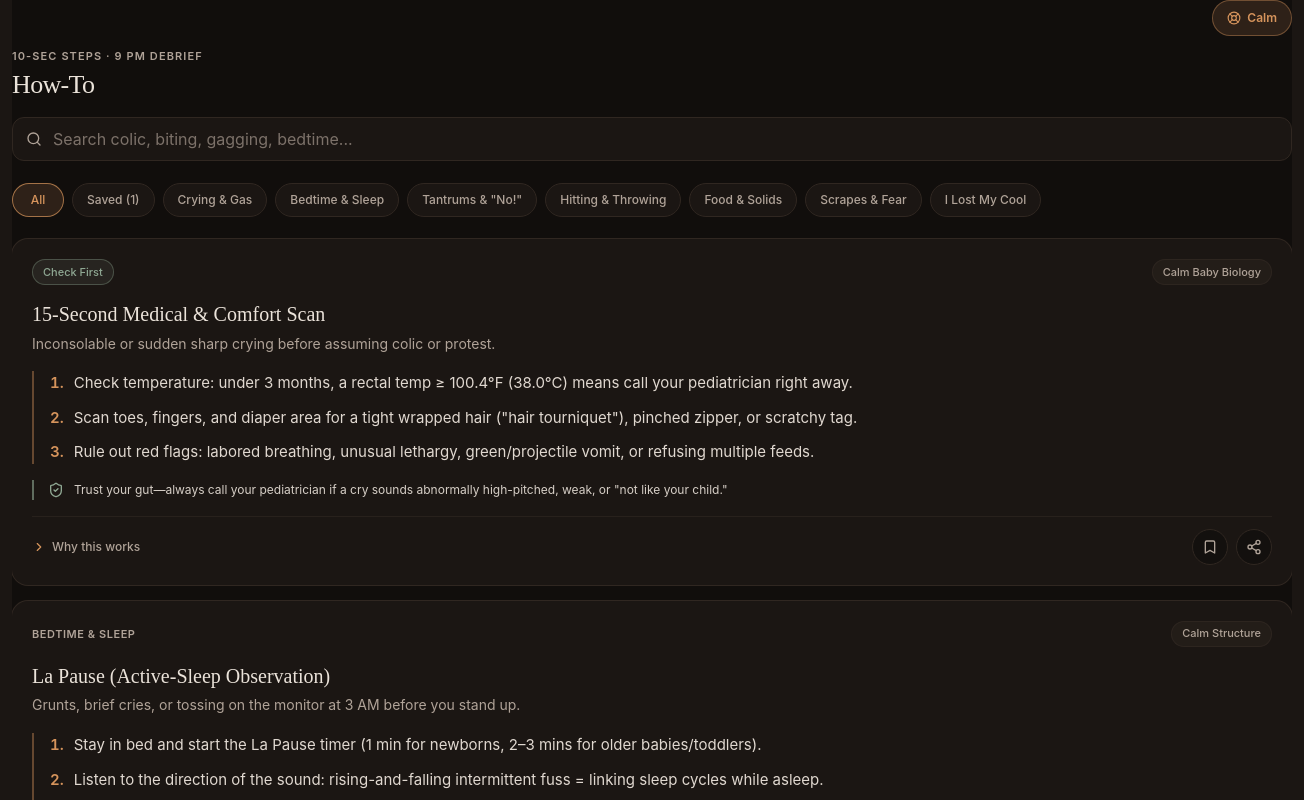
Scenario: HowToView › shows daytime Calm pill, toddler situation filters, 5% badge, unified Saved bookmarks, and spouse share
Later steps or results of the test are not shown.
Expected: the button with aria-label "Calm timer and reset" reads "Calm", [1212,0,1292,36]
// Filter to Tantrums & "No!"
Click the button "Tantrums & \"No!\"": (472, 200) [407,183,537,217]
(page scrolled)
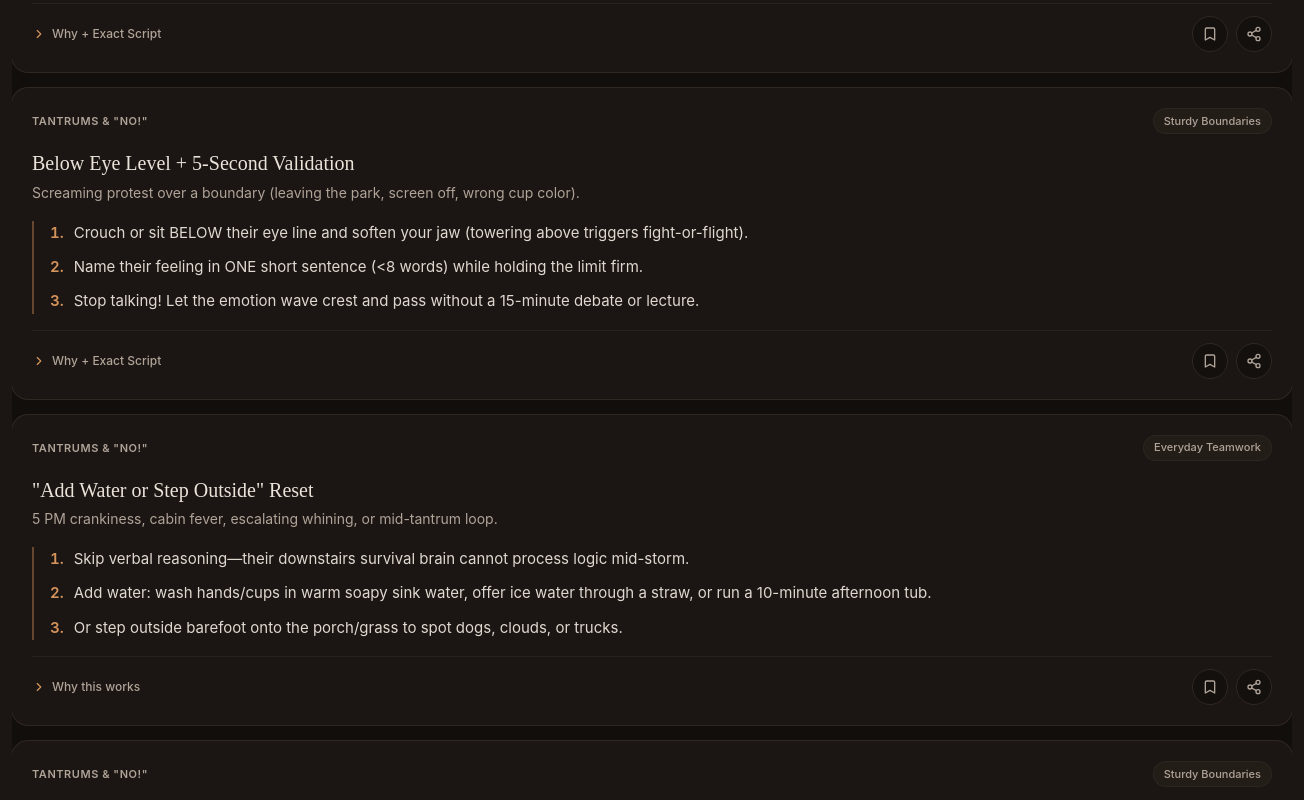
Expected: the heading "Below Eye Level + 5-Second Validation" is shown, [32,152,354,174]
Click the button named "Bookmark Below Eye Level + 5-Second Validation": (1210, 361) [1192,343,1228,379]
(page scrolled)
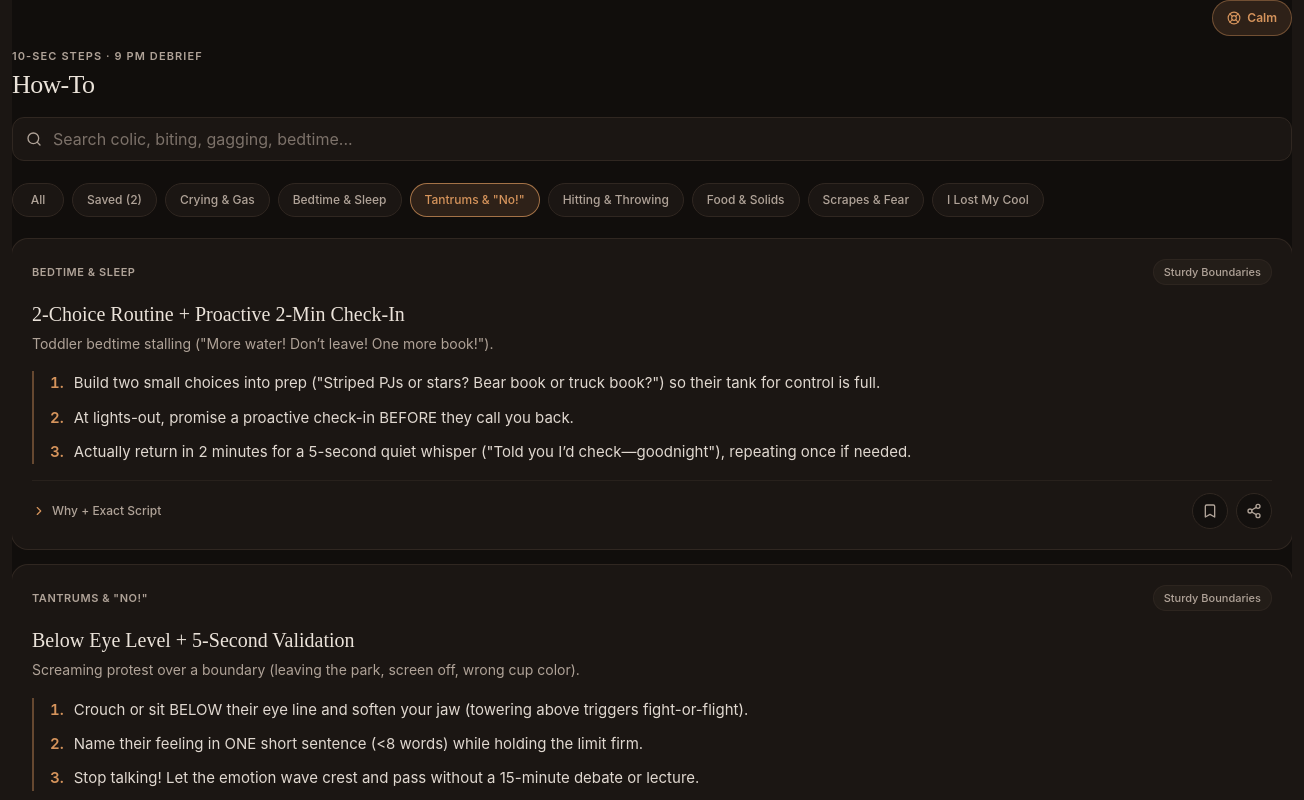
Click the button "Saved (2)": (114, 200) [72,183,157,217]
(page scrolled)
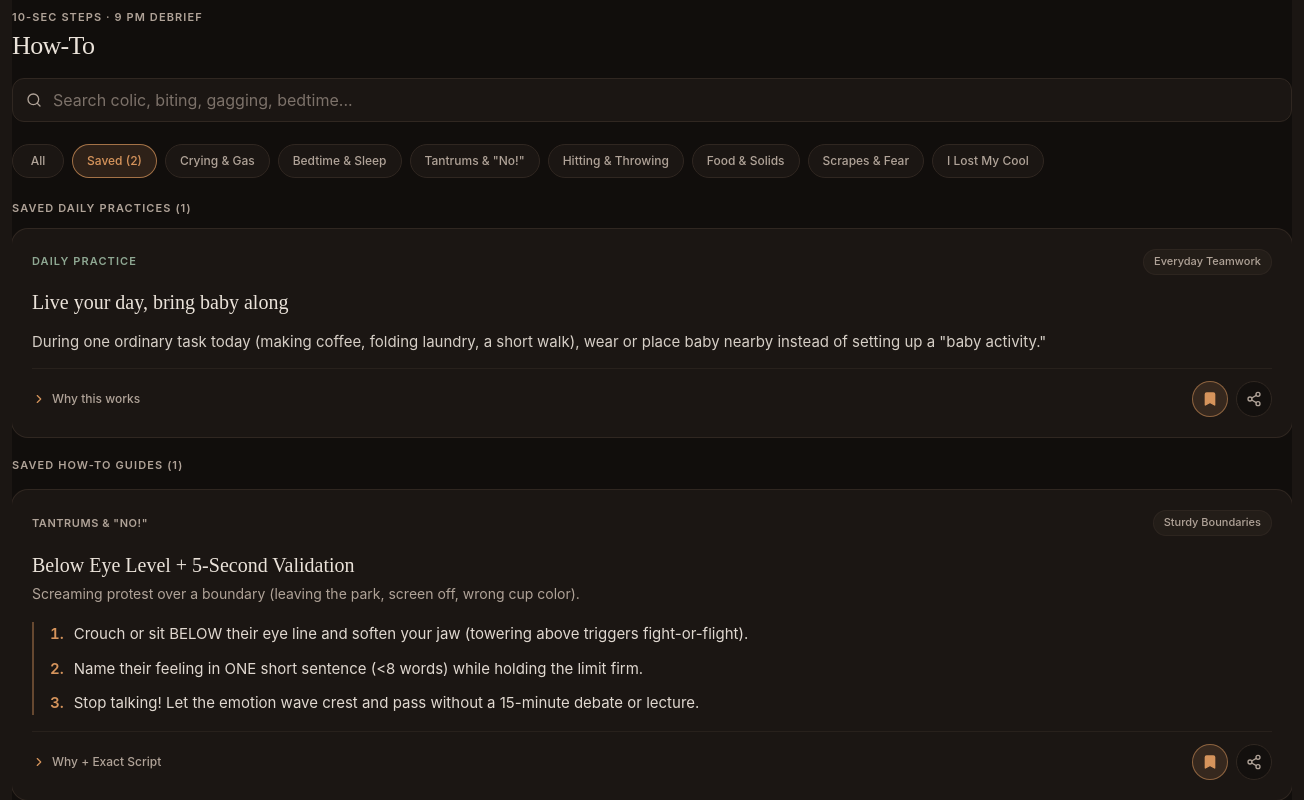
Expected: the heading "Below Eye Level + 5-Second Validation" is shown, [32,554,354,576]
Expected: the heading "Live your day, bring baby along" is shown, [32,290,288,312]
